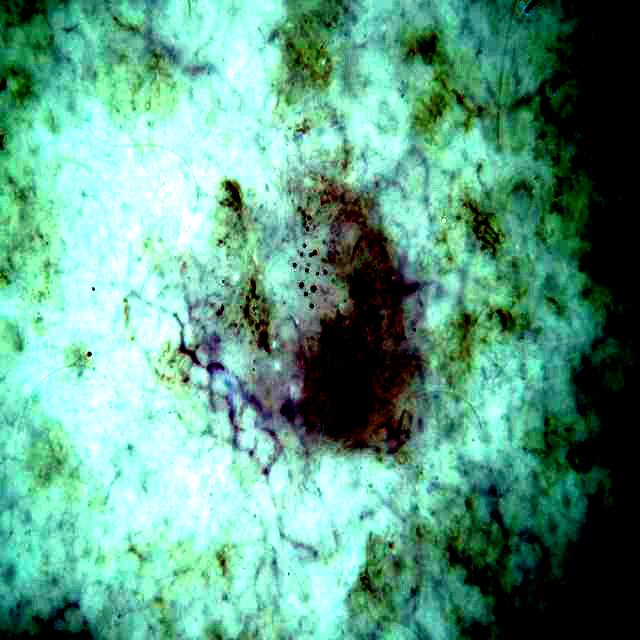BCC: (186, 139, 478, 471)
